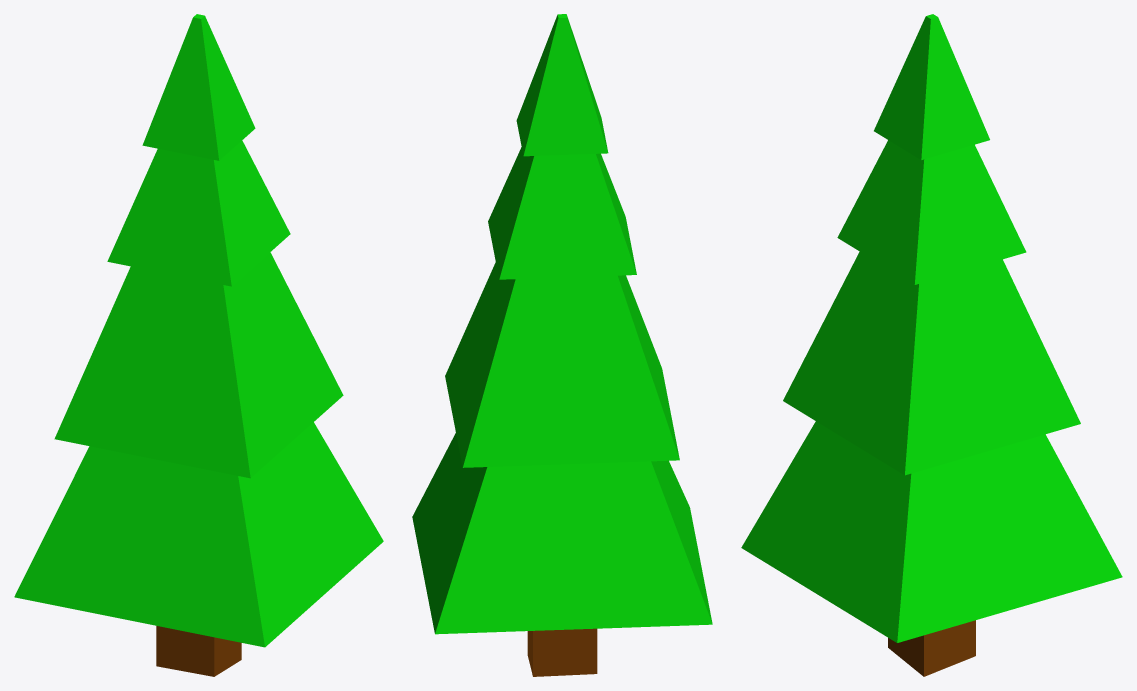
The model's file is jelka2.fbx.
The picture shows the model from 3 angles, left to right: view 1: azimuth 30°, elevation 25°; view 2: azimuth 150°, elevation 25°; view 3: azimuth 270°, elevation 25°; orthographic projection.
Parts seen in each view (by area): view 1: jelka_12.001; view 2: jelka_12.001; view 3: jelka_12.001.
Part boxes in pixels (x1,y1,x2,y2): jelka_12.001: (14,14,383,676); jelka_12.001: (412,14,712,676); jelka_12.001: (741,14,1122,676).
Bounding box in the file's own units: 245 × 455 × 245.
